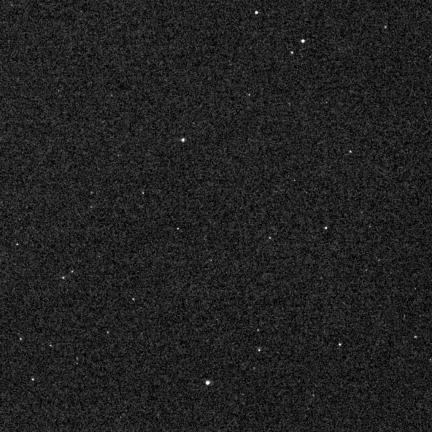blob: (181, 138, 185, 142), (258, 348, 262, 352), (301, 40, 305, 43), (107, 331, 110, 335), (339, 343, 342, 347), (384, 26, 387, 29), (255, 11, 258, 14), (325, 227, 328, 230), (62, 277, 65, 280), (32, 378, 35, 381), (177, 228, 180, 231), (291, 52, 294, 55), (349, 151, 352, 154), (133, 298, 135, 302)
